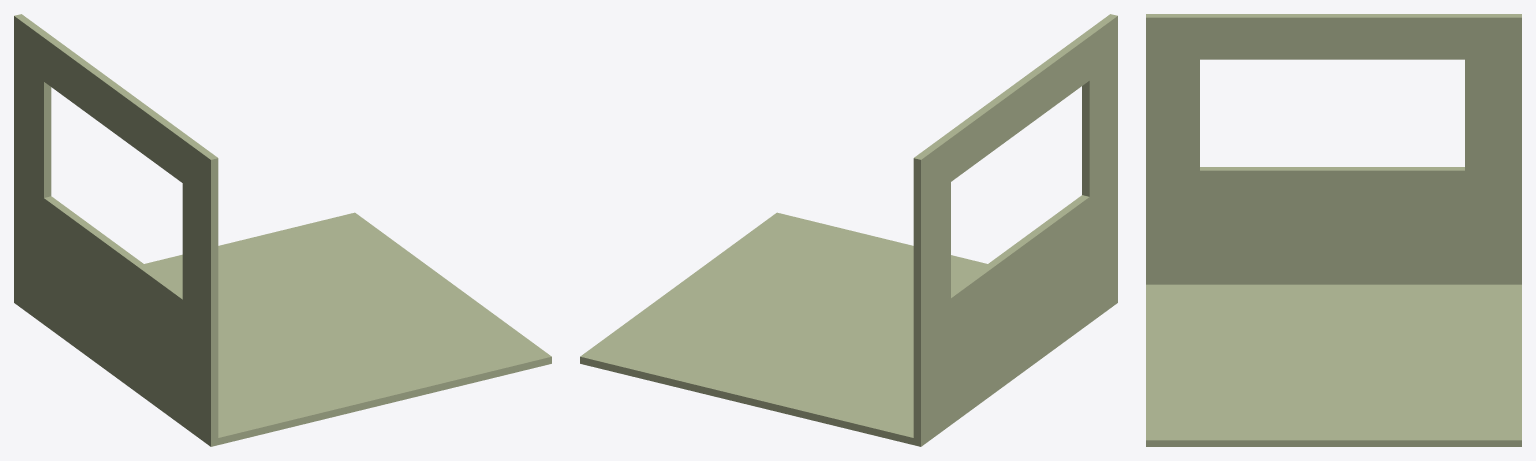
Rendered from Childrens_Room_Base.fbx.
The picture shows the model from 3 angles, left to right: view 1: azimuth 30°, elevation 25°; view 2: azimuth 150°, elevation 25°; view 3: azimuth 270°, elevation 25°; orthographic projection. The views are drawn at different scales.
Visible parts, largest first — view 1: Childrens_Room_Base; view 2: Childrens_Room_Base; view 3: Childrens_Room_Base.
Part boxes in pixels (left/top/right/bottom): Childrens_Room_Base: left=14, top=14, right=551, bottom=446; Childrens_Room_Base: left=580, top=14, right=1117, bottom=446; Childrens_Room_Base: left=1146, top=14, right=1521, bottom=446.
Bounding box in the file's own units: 500 × 402 × 500.
